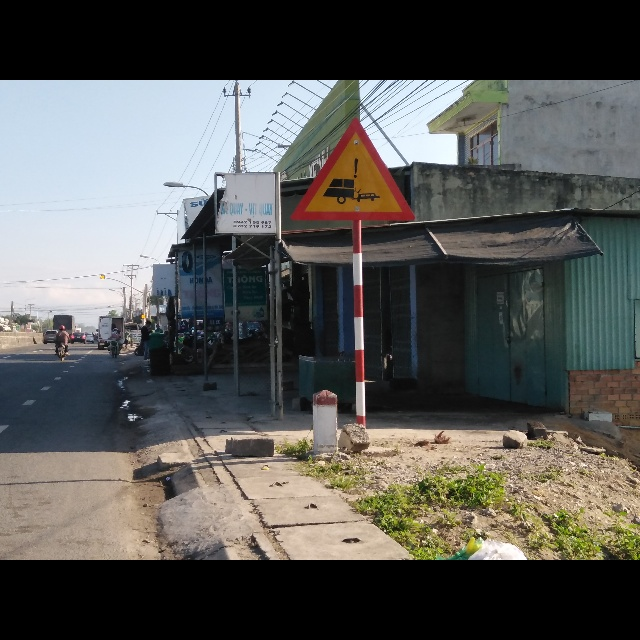Đoạn đường hay xảy ra tai nạn: (292, 114, 418, 223)
